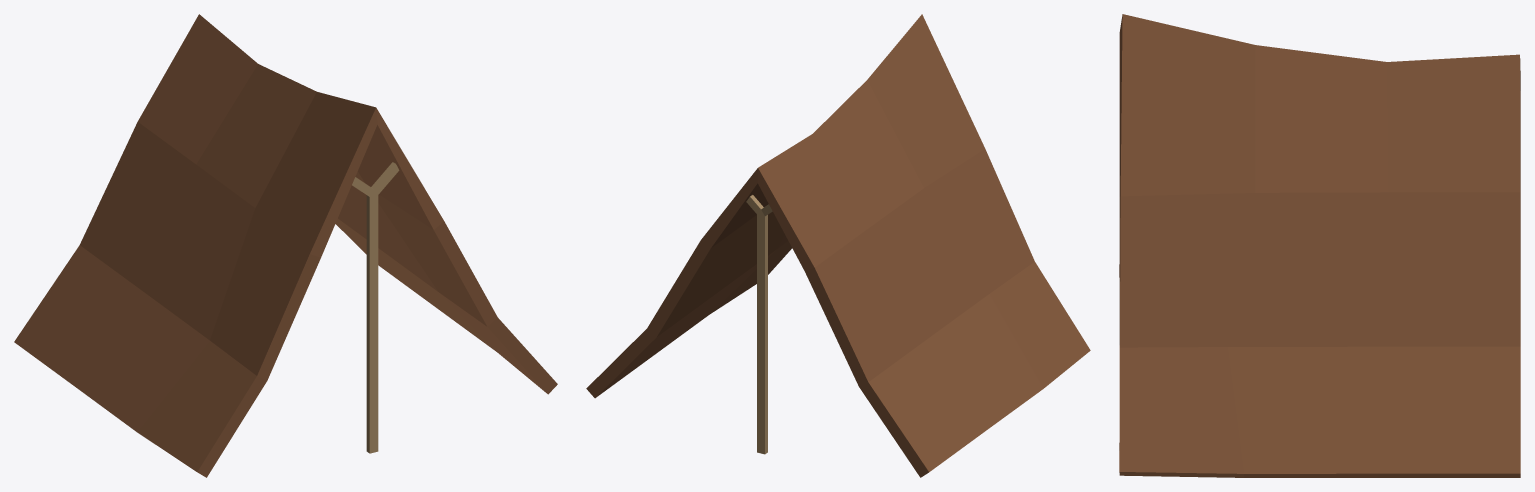
File: Tent.fbx
The picture shows the model from 3 angles, left to right: view 1: azimuth 30°, elevation 25°; view 2: azimuth 150°, elevation 25°; view 3: azimuth 270°, elevation 25°; orthographic projection. The views are drawn at different scales.
Parts seen in each view (by area): view 1: Tent, Wooden Pole; view 2: Tent, Wooden Pole; view 3: Tent.
Boxes of the visible parts, x1,y1,x2,y2 form: Tent: [14, 14, 557, 477]; Wooden Pole: [352, 162, 399, 453]; Tent: [586, 14, 1090, 477]; Wooden Pole: [746, 195, 772, 454]; Tent: [1119, 14, 1520, 477].
Bounding box in the file's own units: 486 × 435 × 407.
